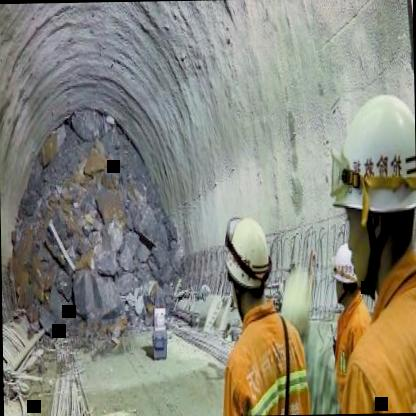helmet: (330, 79, 416, 259), (221, 212, 272, 292), (332, 241, 356, 305)
